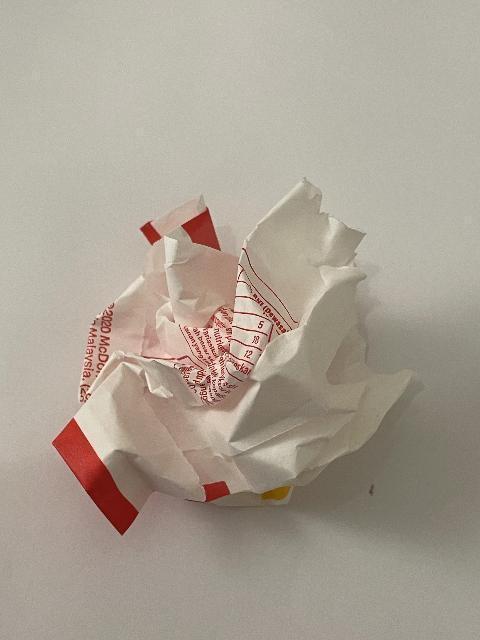paperbag: (51, 175, 424, 540)
